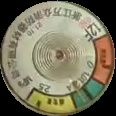green: (67, 79, 108, 111)
needle: (69, 78, 89, 106)
red: (91, 33, 116, 87)
yellow: (25, 88, 80, 116)
